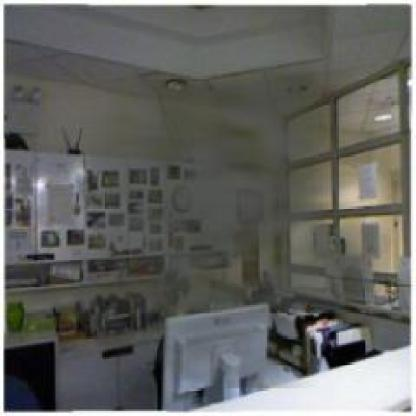Smoke: (24, 50, 390, 388)
